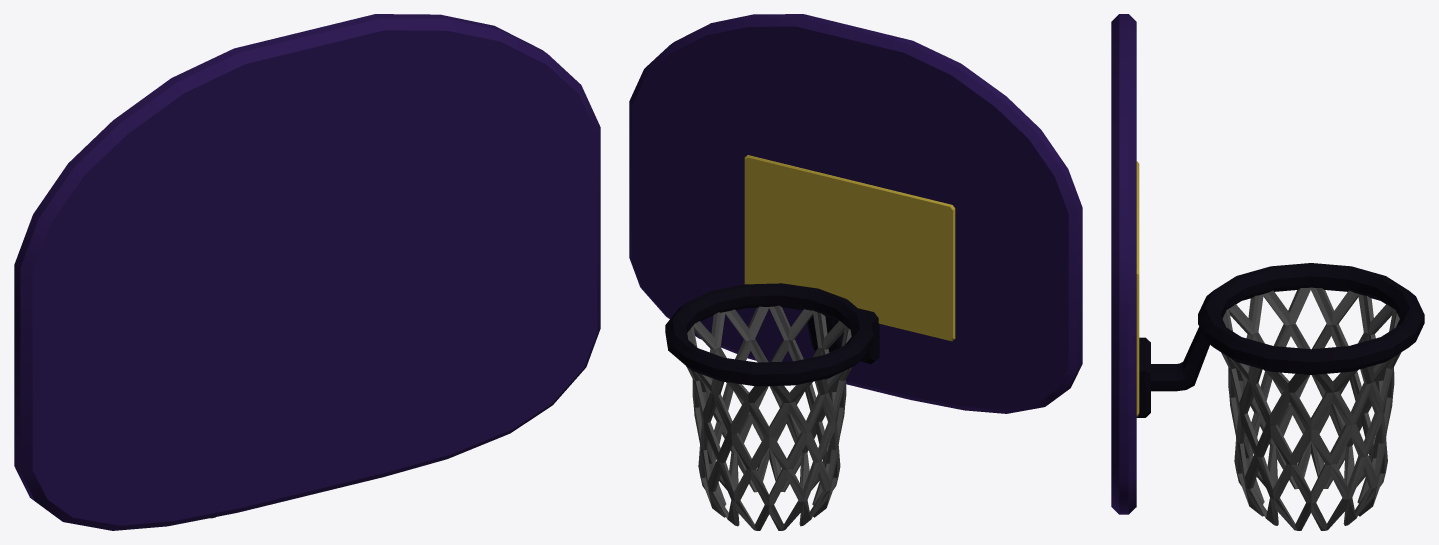
File: Basketball hoop.FBX
The picture shows the model from 3 angles, left to right: view 1: azimuth 30°, elevation 25°; view 2: azimuth 150°, elevation 25°; view 3: azimuth 270°, elevation 25°; orthographic projection. The views are drawn at different scales.
Visible parts, largest first — view 1: Basketball hoop; view 2: Basketball hoop; view 3: Basketball hoop.
Boxes of the visible parts, <box> form: Basketball hoop: <box>14,14,600,530</box>; Basketball hoop: <box>629,14,1082,530</box>; Basketball hoop: <box>1111,14,1424,530</box>.
Size of the model in its own units: 985 by 550 by 878.
